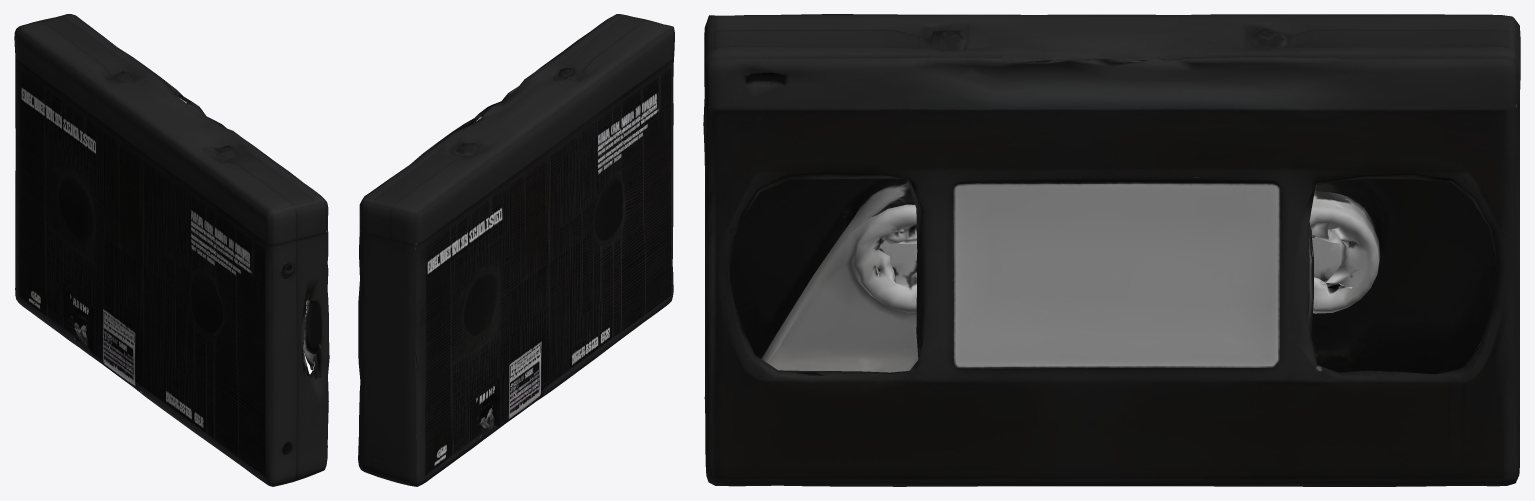
Rendered from cassette.fbx.
The picture shows the model from 3 angles, left to right: view 1: azimuth 30°, elevation 25°; view 2: azimuth 150°, elevation 25°; view 3: azimuth 270°, elevation 25°; orthographic projection. The views are drawn at different scales.
Visible parts, largest first — view 1: tripo_node_714a908e; view 2: tripo_node_714a908e; view 3: tripo_node_714a908e.
Part boxes in pixels (box(x1,y1,x2,y2)): tripo_node_714a908e: box(14, 14, 329, 486); tripo_node_714a908e: box(358, 14, 674, 486); tripo_node_714a908e: box(703, 14, 1520, 486).
Bounding box in the file's own units: 13.65 × 59.77 × 99.58.
